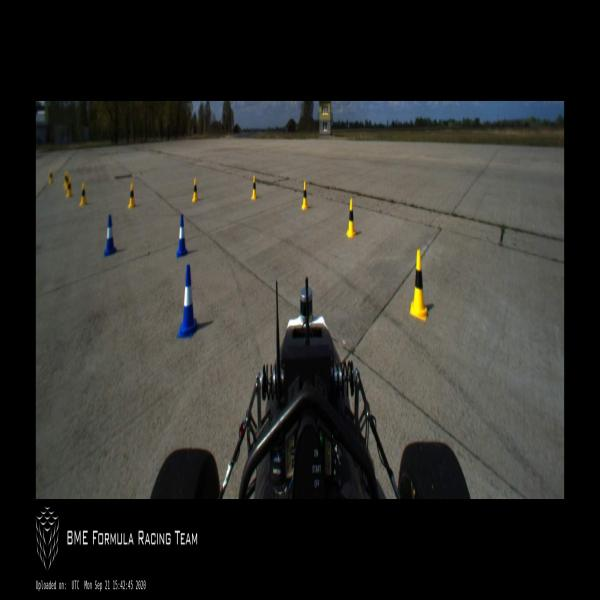blue_cone: (177, 265, 197, 338), (176, 215, 188, 258), (104, 215, 116, 257)
yellow_cone: (410, 251, 428, 320), (347, 198, 356, 238), (301, 180, 308, 209), (128, 182, 135, 208), (192, 177, 198, 202), (251, 176, 257, 199), (66, 178, 72, 198), (82, 182, 87, 205), (65, 173, 69, 190), (48, 168, 52, 185)
